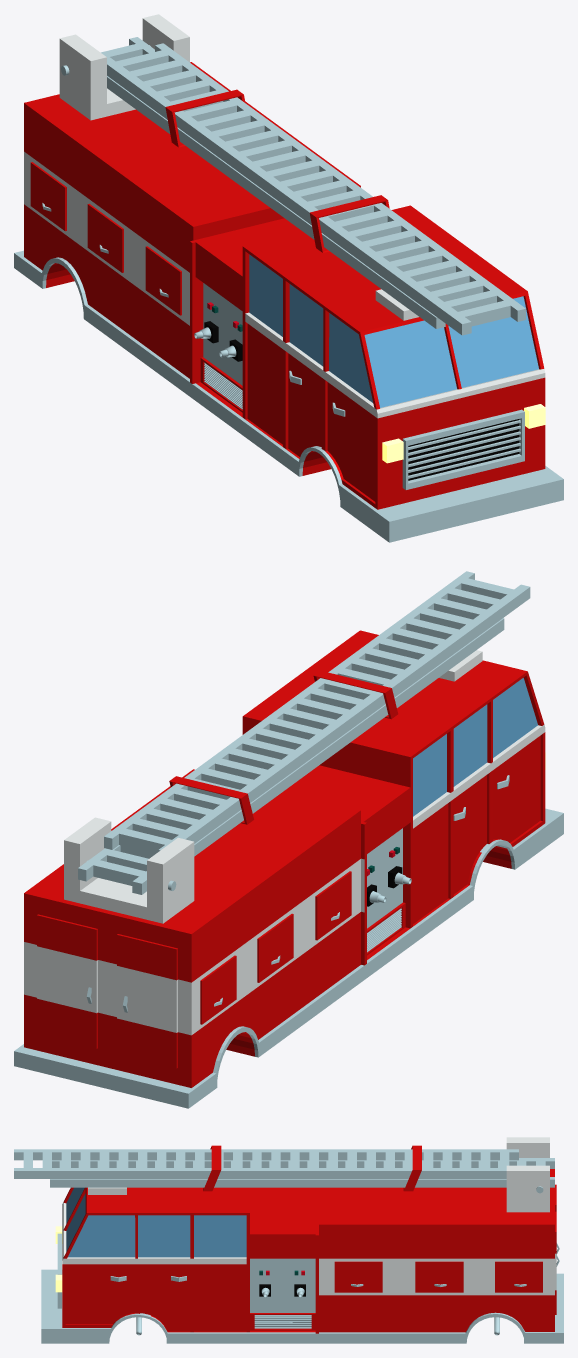
Rendered from firetruck.fbx.
The picture shows the model from 3 angles, top to bottom: view 1: azimuth 30°, elevation 25°; view 2: azimuth 150°, elevation 25°; view 3: azimuth 270°, elevation 25°; orthographic projection. The views are drawn at different scales.
Parts seen in each view (by area): view 1: Plane.299; view 2: Plane.299; view 3: Plane.299.
Boxes of the visible parts, x1,y1,x2,y2 form: Plane.299: (14, 14, 563, 542); Plane.299: (14, 571, 563, 1108); Plane.299: (14, 1137, 563, 1343).
Bounding box in the file's own units: 236 × 272 × 854.
